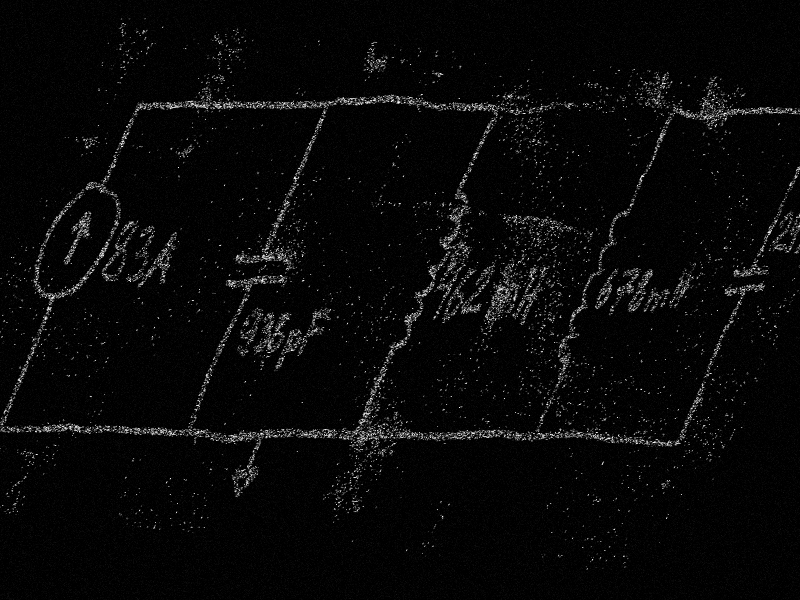2: (457, 262, 502, 318), (765, 209, 798, 254)
3: (117, 224, 165, 285), (246, 308, 283, 357)
4: (420, 256, 466, 323)
6: (434, 263, 481, 327), (589, 266, 623, 313)
7: (600, 264, 645, 320)
8: (95, 217, 146, 286), (261, 308, 298, 356), (623, 266, 658, 316)
9: (224, 304, 270, 361), (778, 211, 800, 255)
A: (137, 225, 191, 290)
F: (292, 307, 334, 359), (791, 209, 800, 258)
H: (505, 265, 552, 328), (663, 264, 698, 312)
m: (479, 280, 525, 321), (637, 285, 673, 317)
p: (268, 327, 307, 376)
